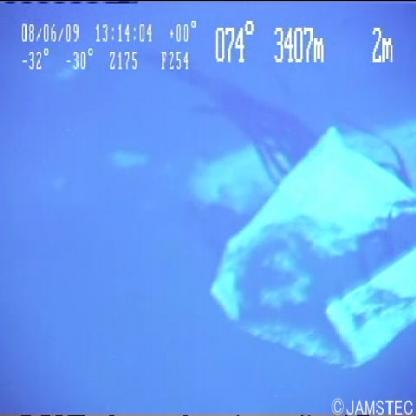Rác: (183, 91, 416, 377)
